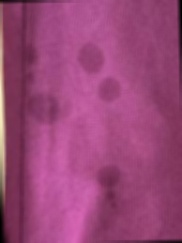oil: (26, 92, 64, 118), (99, 166, 126, 201), (77, 40, 106, 72), (26, 45, 46, 88), (99, 80, 117, 104)
